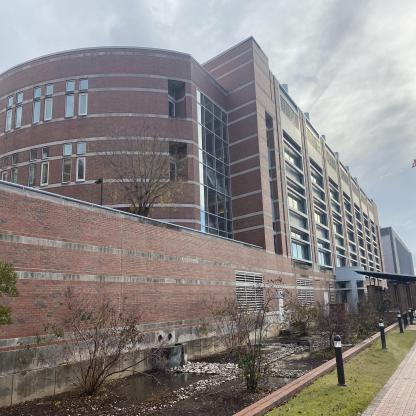EB-1: (11, 24, 388, 332)
